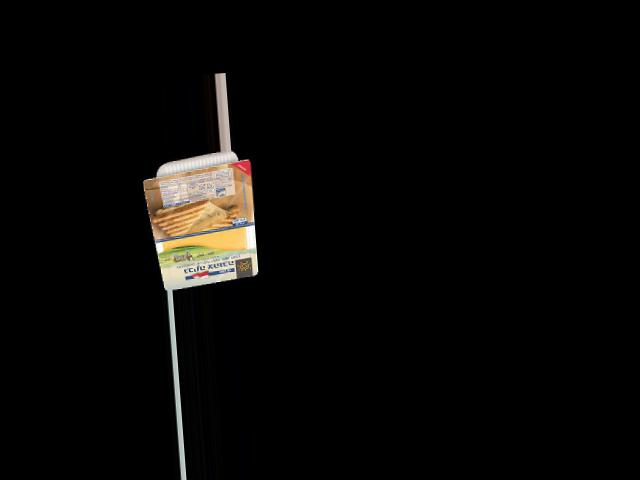cheese: (144, 149, 254, 290)
